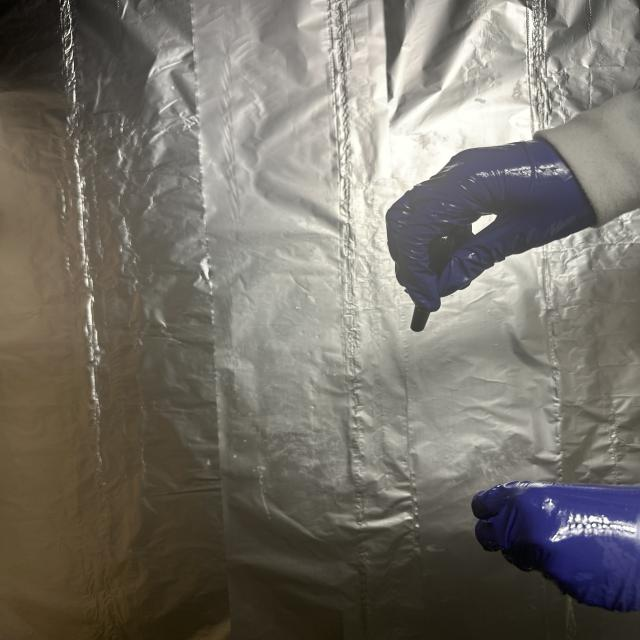gloves_contaminated: (386, 141, 596, 311), (472, 482, 640, 612)
